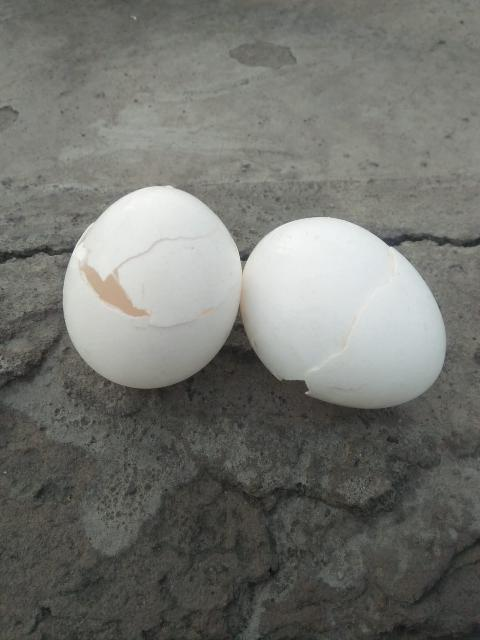Roto: (240, 214, 447, 410), (61, 184, 243, 390)
